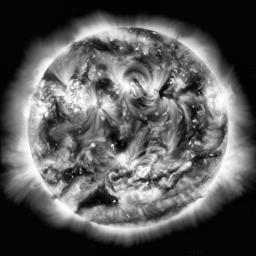solar flares: (57, 85, 94, 111), (115, 184, 157, 203), (202, 85, 223, 119), (114, 79, 134, 95), (110, 149, 128, 166), (146, 83, 156, 102)
sunspots: (79, 187, 114, 209), (43, 117, 61, 151), (181, 113, 194, 151), (94, 37, 124, 53), (108, 123, 128, 147), (94, 77, 111, 98), (63, 164, 88, 178), (183, 75, 198, 96), (157, 79, 170, 101), (191, 151, 203, 170)
